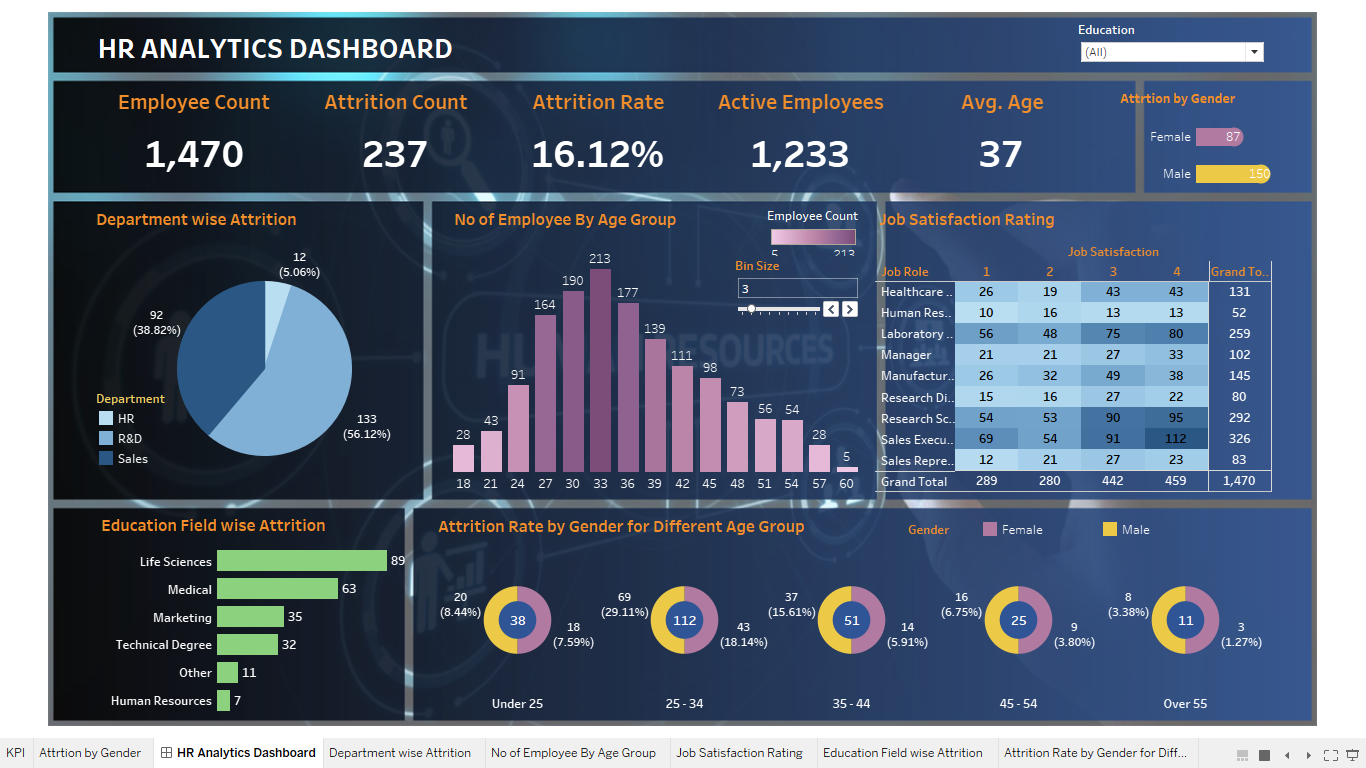

The dashboard page shown, as its layout file describes it:
{"tool":"tableau","page":{"name":"HR Analytics Dashboard","canvas":[1000,1000],"units":"permille","ordinal":0},"visuals":[{"type":"image","param":"Image/HR background.pptx.png","box":[6.9,13.5,986.2,973]},{"type":"filter","title":"Department wise Attrition","param":"[federated.05m4ghe1i65il6103wwfv1xlmj9u].[none:Education:nk]","box":[789.5,28.7,138.1,72.6]},{"type":"text","box":[69.3,32.1,482.2,62.5]},{"type":"worksheet","title":"KPI","mark":"Automatic","box":[68.4,114.9,740.3,141.9]},{"type":"worksheet","title":"Attrtion by Gender","mark":"Automatic","rows":["Gender"],"cols":["Calculation_727894322117369856","Calculation_727894322117369856"],"box":[817.3,114.9,116,145.3]},{"type":"worksheet","title":"Department wise Attrition","mark":"Pie","box":[67.5,277,252.8,395.3]},{"type":"worksheet","title":"No of Employee By Age Group","mark":"Automatic","rows":["Employee Count"],"cols":["Age (bin)"],"box":[329.6,277,301.1,391.9]},{"type":"worksheet","title":"Job Satisfaction Rating","mark":"Square","rows":["Job Role"],"cols":["Job Satisfaction"],"box":[640.2,277,291.6,391.9]},{"type":"legend","title":"No of Employee By Age Group","param":"[federated.05m4ghe1i65il6103wwfv1xlmj9u].[sum:Employee Count:qk]","box":[561.7,280.4,68.2,65.9]},{"type":"parameter","param":"[Parameters].[Parameter 1]","box":[538.4,348,92.3,113.2]},{"type":"legend","title":"Department wise Attrition","param":"[federated.05m4ghe1i65il6103wwfv1xlmj9u].[none:Department:nk]","box":[70.1,528.7,74.5,136.8]},{"type":"worksheet","title":"Education Field wise Attrition","mark":"Automatic","rows":["Education Field"],"cols":["Calculation_727894322117369856"],"box":[70.8,690.9,236.4,277]},{"type":"worksheet","title":"Attrition Rate by Gender for Different Age Group","mark":"Pie","rows":["Calculation_727894323988512772","Calculation_727894323988512772"],"cols":["CF_age band"],"box":[317.5,692.6,611.7,275.3]},{"type":"legend","title":"Attrition Rate by Gender for Different Age Group","param":"[federated.05m4ghe1i65il6103wwfv1xlmj9u].[none:Gender:nk]","box":[664.4,702.7,257.1,47.3]}]}

Visuals, with their boxes on the dashboard's canvas, which has no fixed pixel size, in thousandths of its width and height (x1, y1, x2, y2). These are canvas units, not pixel positions in the 1366x768 screenshot, which may show the page scaled, cropped or inside an application window:
image: <bbox>7, 14, 993, 986</bbox>
"Department wise Attrition" filter: <bbox>790, 29, 928, 101</bbox>
text: <bbox>69, 32, 552, 95</bbox>
"KPI" worksheet: <bbox>68, 115, 809, 257</bbox>
"Attrtion by Gender" worksheet: <bbox>817, 115, 933, 260</bbox>
"Department wise Attrition" worksheet (Pie marks): <bbox>68, 277, 320, 672</bbox>
"No of Employee By Age Group" worksheet: <bbox>330, 277, 631, 669</bbox>
"Job Satisfaction Rating" worksheet (Square marks): <bbox>640, 277, 932, 669</bbox>
"No of Employee By Age Group" legend: <bbox>562, 280, 630, 346</bbox>
parameter: <bbox>538, 348, 631, 461</bbox>
"Department wise Attrition" legend: <bbox>70, 529, 145, 666</bbox>
"Education Field wise Attrition" worksheet: <bbox>71, 691, 307, 968</bbox>
"Attrition Rate by Gender for Different Age Group" worksheet (Pie marks): <bbox>318, 693, 929, 968</bbox>
"Attrition Rate by Gender for Different Age Group" legend: <bbox>664, 703, 922, 750</bbox>
